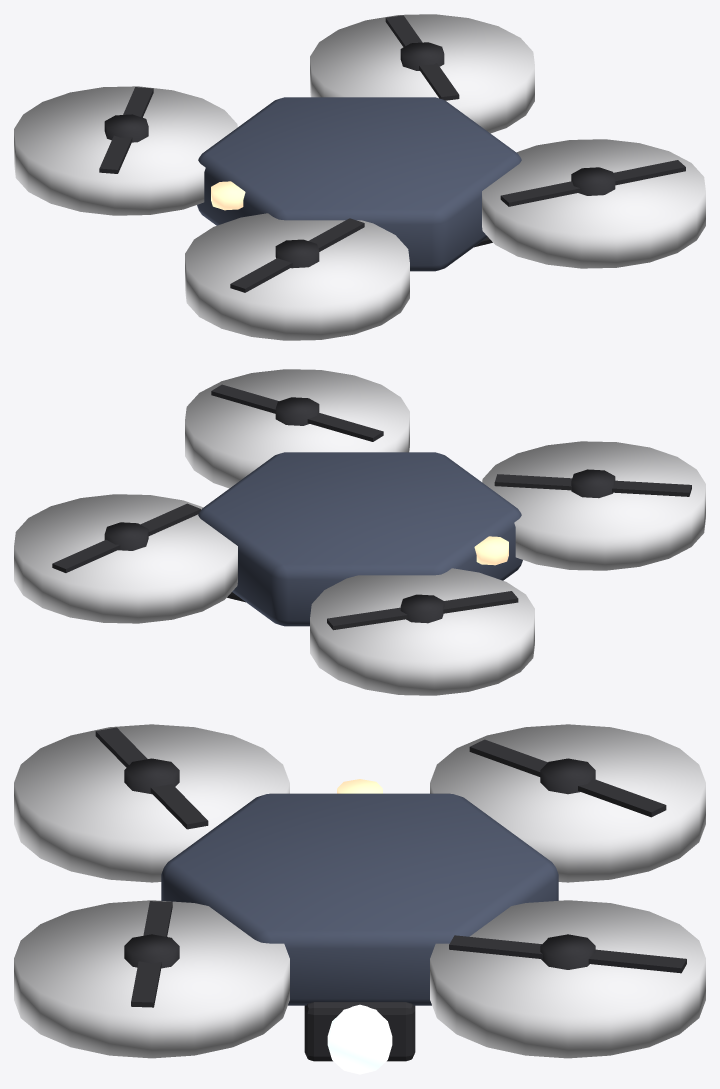
The model's file is SM_Drone.fbx.
The picture shows the model from 3 angles, top to bottom: view 1: azimuth 30°, elevation 25°; view 2: azimuth 150°, elevation 25°; view 3: azimuth 270°, elevation 25°; orthographic projection. The views are drawn at different scales.
Parts seen in each view (by area): view 1: SM_Drone; view 2: SM_Drone; view 3: SM_Drone.
Boxes of the visible parts, x1=… form: SM_Drone: x1=14, y1=14, x2=705, y2=340; SM_Drone: x1=14, y1=369, x2=705, y2=695; SM_Drone: x1=14, y1=724, x2=705, y2=1074.
Size of the model in its own units: 0.7525 by 0.7525 by 0.155.
